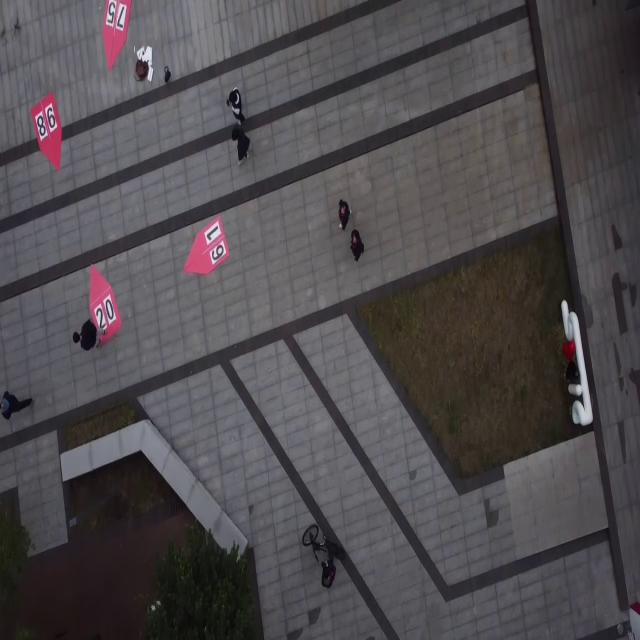-sign-: (183, 215, 229, 277), (89, 263, 122, 346), (30, 91, 62, 170), (102, 0, 132, 71)
